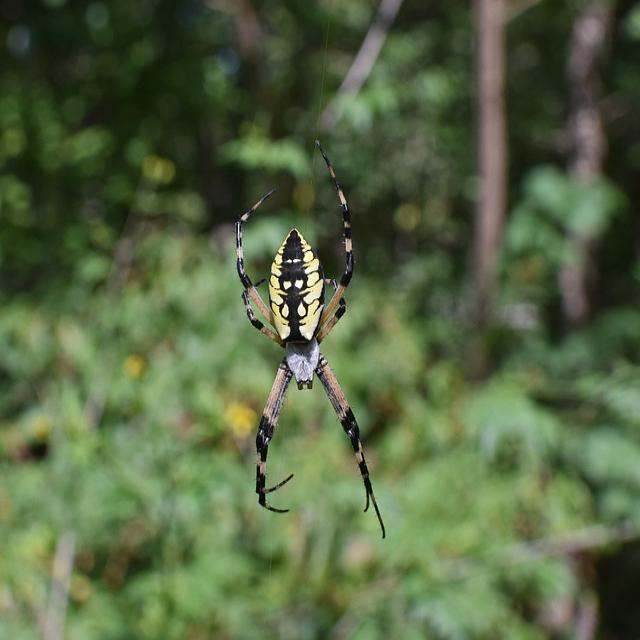spyder: (235, 175, 384, 540)
